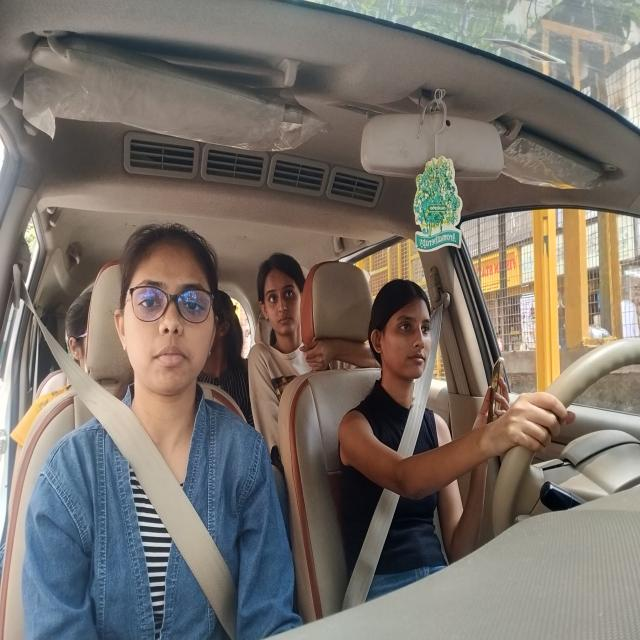mobile: (482, 351, 517, 436)
person: (110, 216, 228, 408), (364, 269, 455, 396), (258, 253, 310, 355)
